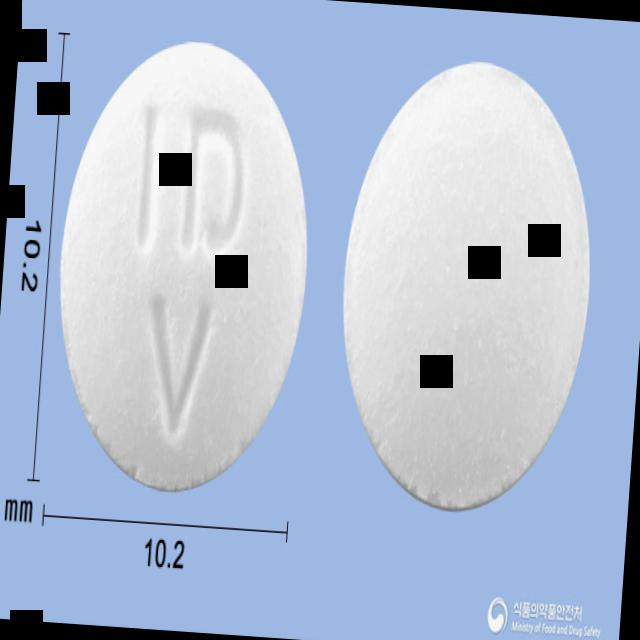Besivo: (43, 29, 324, 504)
